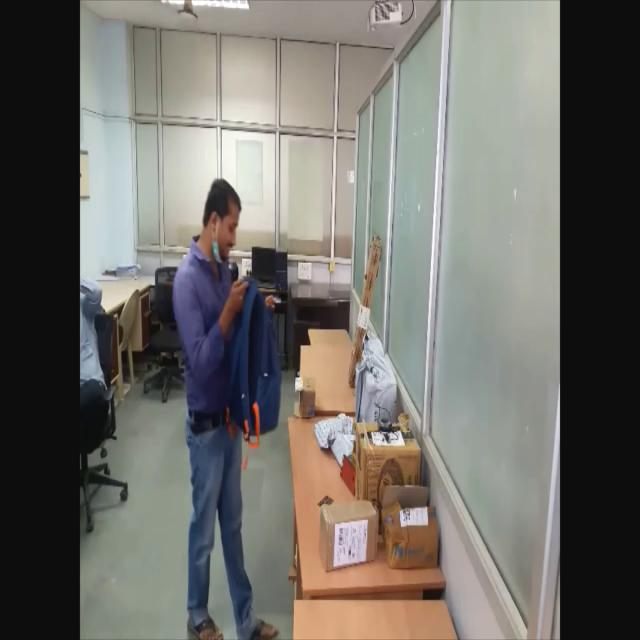shoplifting: (167, 162, 290, 632)
